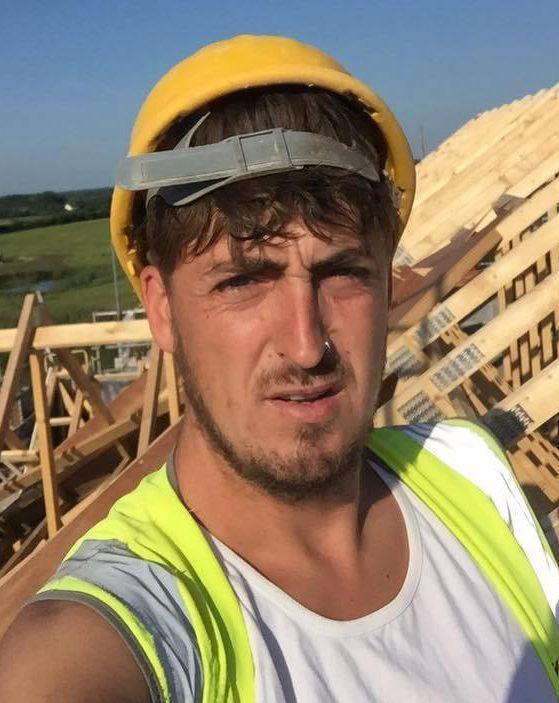helmet: (109, 30, 416, 292)
